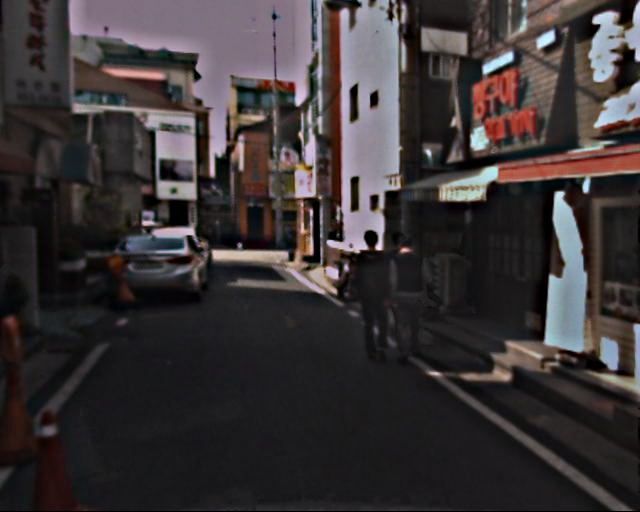person: (382, 238, 433, 363), (347, 231, 398, 356), (372, 231, 420, 349)
